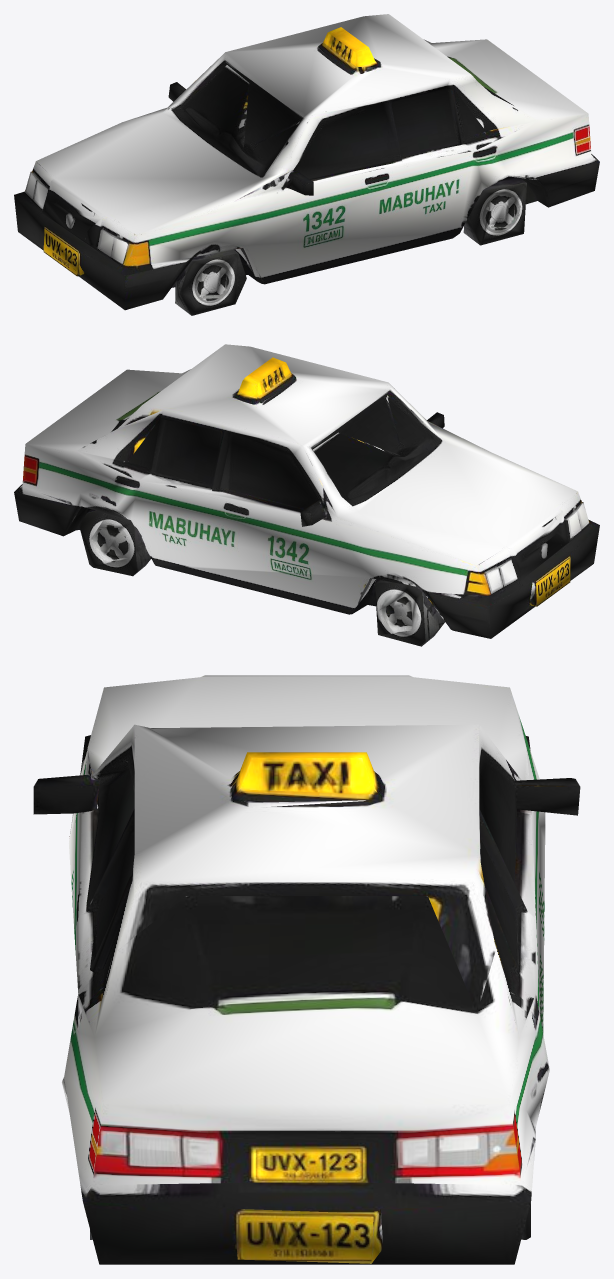
The model's file is taxi.glb.
The picture shows the model from 3 angles, top to bottom: view 1: azimuth 30°, elevation 25°; view 2: azimuth 150°, elevation 25°; view 3: azimuth 270°, elevation 25°; orthographic projection. The views are drawn at different scales.
Bounding box in the file's own units: 1.9 × 0.7084 × 0.9119.
1 material, 1 textured.
